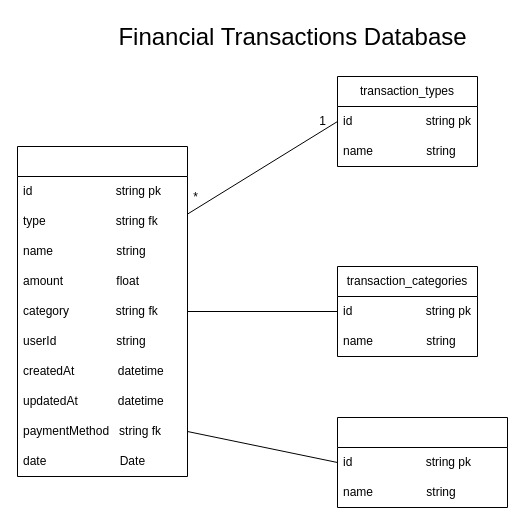
This 525x525 diagram has some shape labels left out. The shapes that lost their labels are listed below. From the top down, each one's box as (x1, y1, x2, y2) in pixels, then its label:
(16, 146, 188, 476): transactions $$$
(336, 416, 508, 508): transaction_payment_methods
